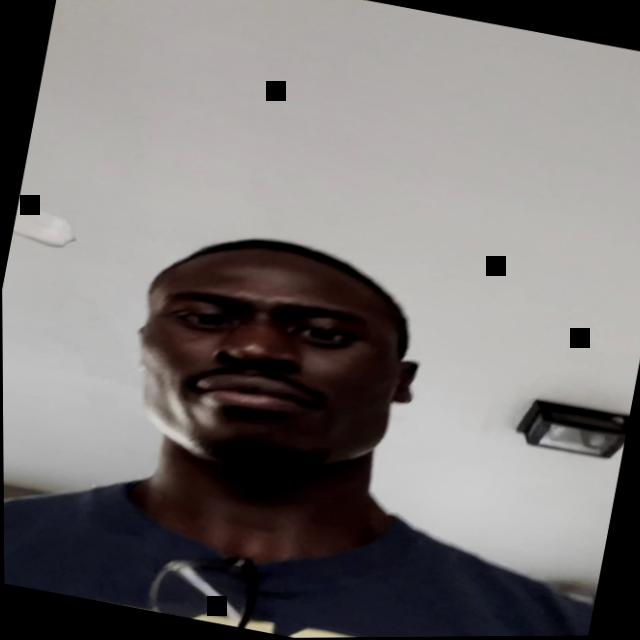NO-Mask: (102, 219, 438, 512)
